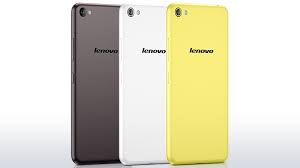lenovo: (164, 2, 229, 167)
